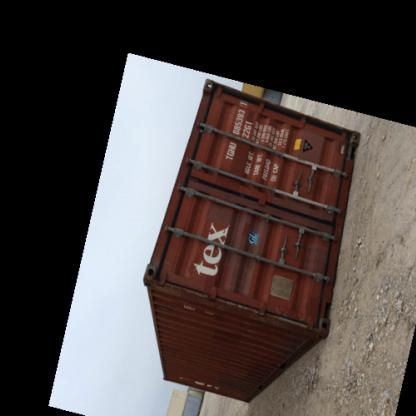Damage: (259, 313, 309, 332), (213, 298, 255, 313), (162, 280, 207, 294), (312, 233, 338, 244)
